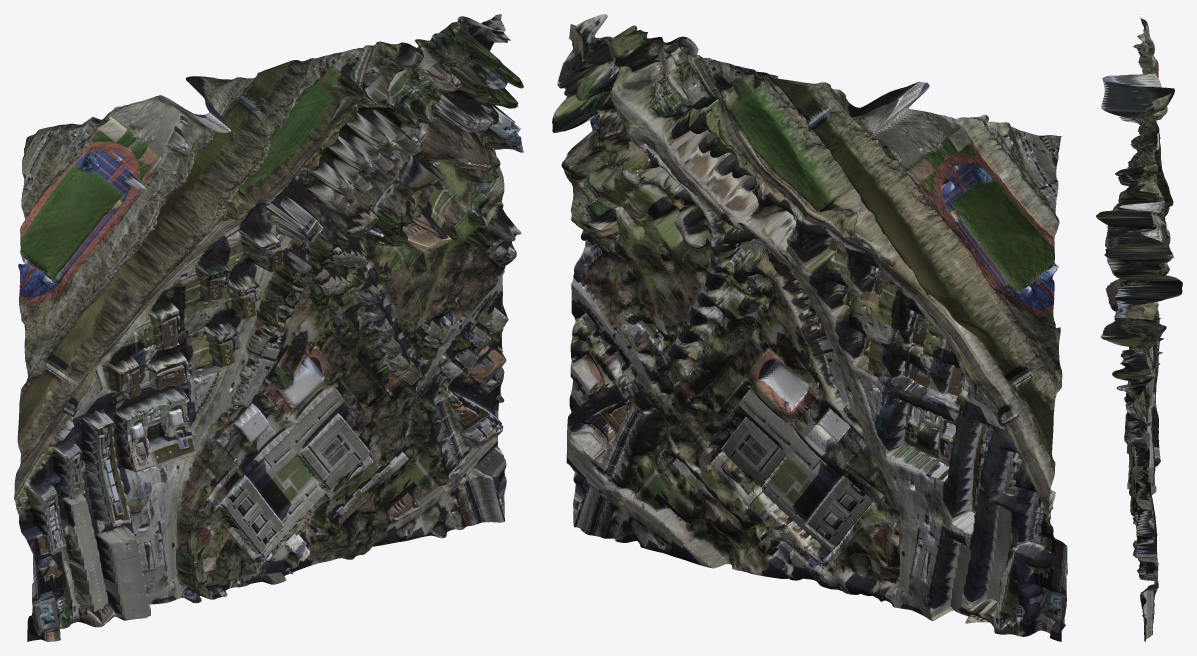
3 views of the same model, side by side, from view 1: azimuth 30°, elevation 25°; view 2: azimuth 150°, elevation 25°; view 3: azimuth 270°, elevation 25° (orthographic). The views are drawn at different scales.
Parts seen in each view (by area): view 1: ayama_surface; view 2: ayama_surface; view 3: ayama_surface.
Boxes of the visible parts, left/top/right/bottom form: ayama_surface: left=14, top=14, right=523, bottom=641; ayama_surface: left=552, top=14, right=1067, bottom=641; ayama_surface: left=1096, top=14, right=1182, bottom=641.
Bounding box in the file's own units: 510 × 510 × 93.87.
1 material, 1 textured.
